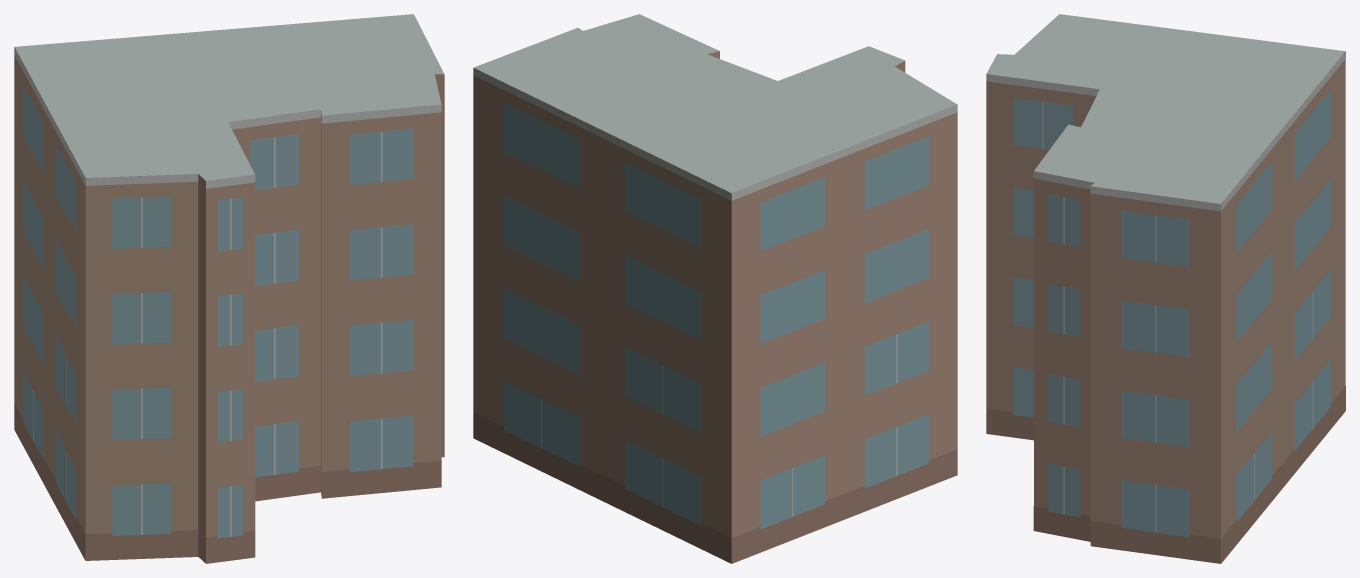
The model's file is survey-upis-32531055.glb.
The picture shows the model from 3 angles, left to right: view 1: azimuth 30°, elevation 25°; view 2: azimuth 150°, elevation 25°; view 3: azimuth 270°, elevation 25°; orthographic projection. The views are drawn at different scales.
Parts seen in each view (by area): view 1: survey-upis-32531055.tmp; view 2: survey-upis-32531055.tmp; view 3: survey-upis-32531055.tmp.
Boxes of the visible parts, <box> form: survey-upis-32531055.tmp: <box>14,14,444,563</box>; survey-upis-32531055.tmp: <box>473,14,957,563</box>; survey-upis-32531055.tmp: <box>986,14,1345,563</box>.
Bounding box in the file's own units: 13.49 × 11.9 × 10.78.
